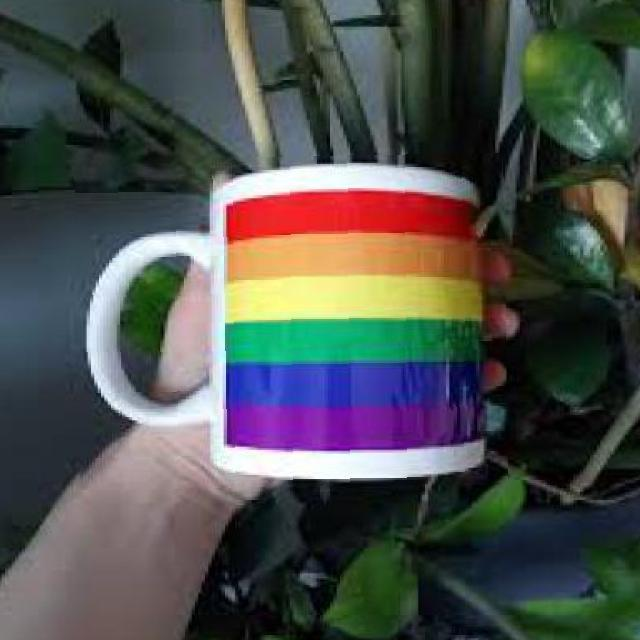cup: (74, 153, 508, 490)
